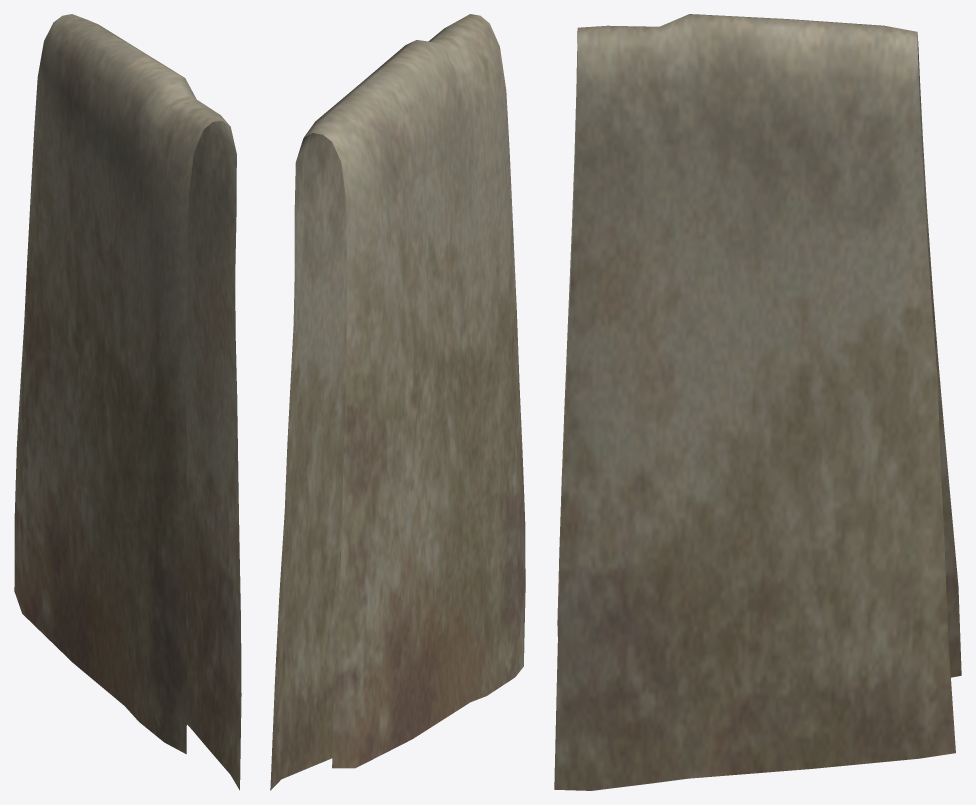
The model's file is bathroom_towel_lod0.glb.
The picture shows the model from 3 angles, left to right: view 1: azimuth 30°, elevation 25°; view 2: azimuth 150°, elevation 25°; view 3: azimuth 270°, elevation 25°; orthographic projection. The views are drawn at different scales.
Parts seen in each view (by area): view 1: surf0; view 2: surf0; view 3: surf0.
Boxes of the visible parts, x1,y1,x2,y2 form: surf0: [14, 14, 241, 790]; surf0: [270, 14, 525, 790]; surf0: [554, 14, 961, 790].
Size of the model in its own units: 3.23 by 25.88 by 12.49.
